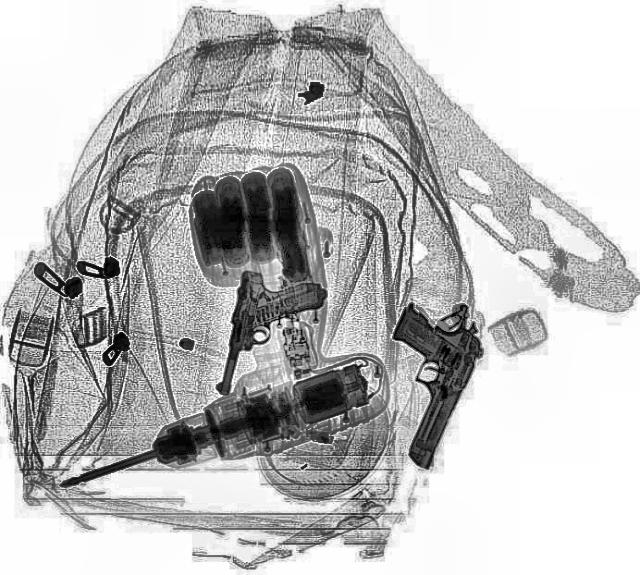Gun: (342, 289, 498, 470), (211, 268, 329, 404)
